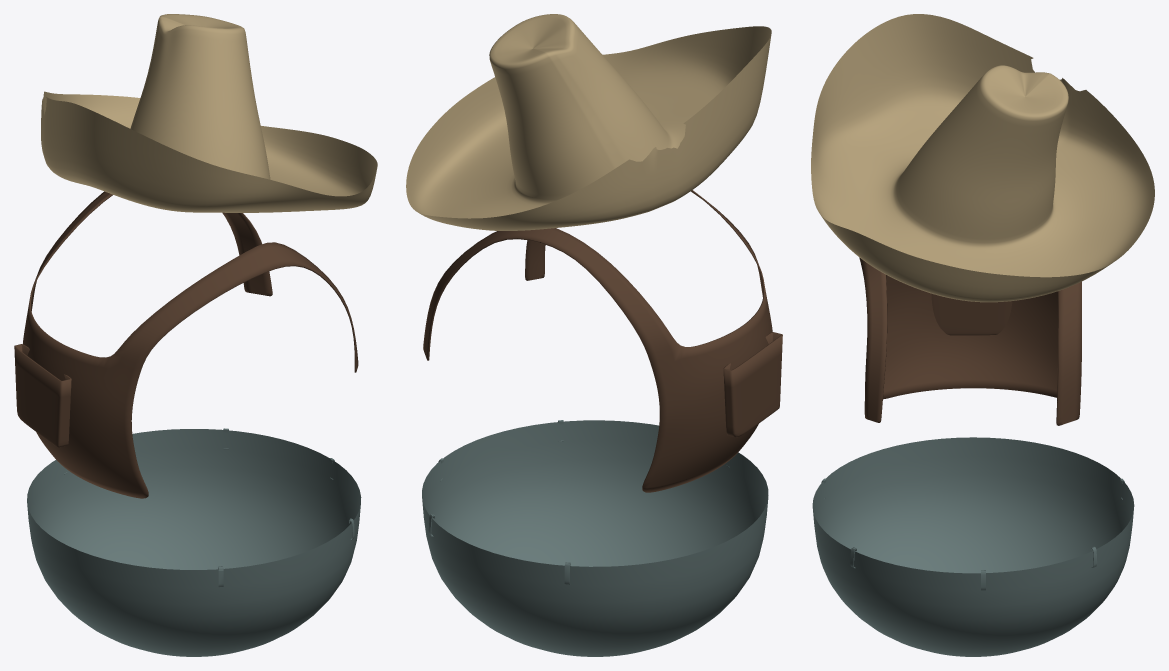
File: Blacksmith Costume.fbx
3 views of the same model, side by side, from view 1: azimuth 30°, elevation 25°; view 2: azimuth 150°, elevation 25°; view 3: azimuth 270°, elevation 25° (orthographic). The views are drawn at different scales.
Parts seen in each view (by area): view 1: Jerry (Gourd Body).001, Circle.024, Jerry (Gourd Body).002; view 2: Jerry (Gourd Body).001, Circle.024, Jerry (Gourd Body).002; view 3: Circle.024, Jerry (Gourd Body).001, Jerry (Gourd Body).002.
Part boxes in pixels (x1,y1,x2,y2): Jerry (Gourd Body).001: (27,429,361,656); Circle.024: (41,14,377,212); Jerry (Gourd Body).002: (14,191,358,498); Jerry (Gourd Body).001: (422,420,768,656); Circle.024: (406,14,771,230); Jerry (Gourd Body).002: (423,190,782,492); Circle.024: (811,14,1154,302); Jerry (Gourd Body).001: (812,437,1134,656); Jerry (Gourd Body).002: (859,257,1081,425).
Size of the model in its own units: 584 by 1066 by 580.
